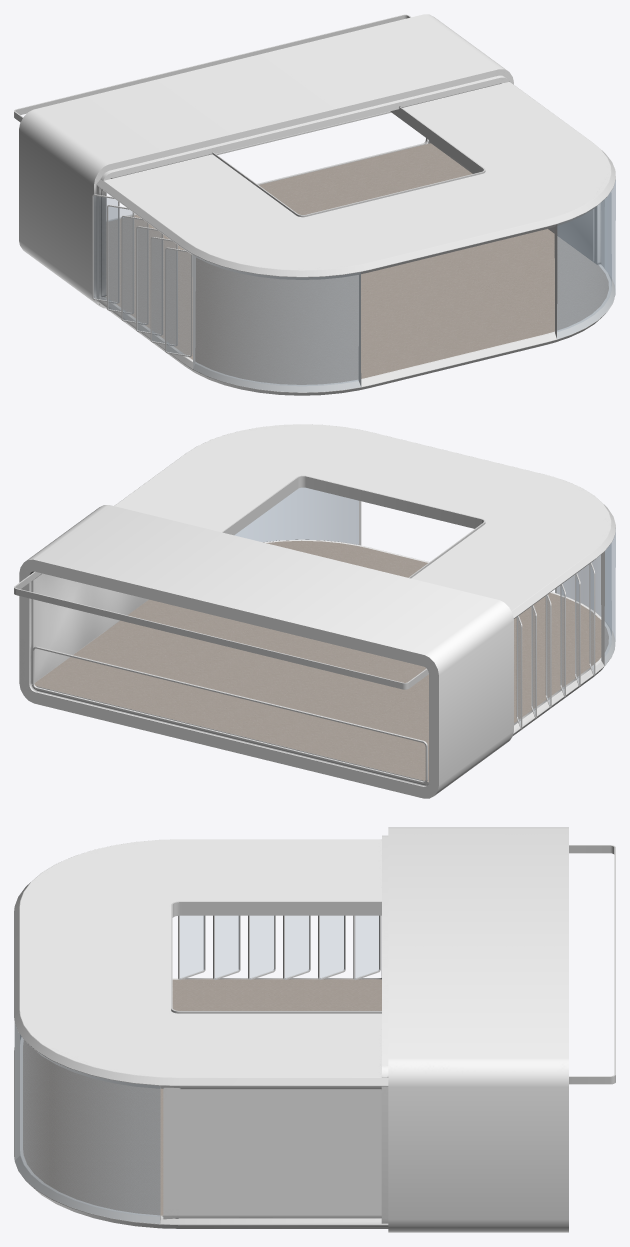
Rendered from v4-Conf-1ax.fbx.
3 views of the same model, one above another, from view 1: azimuth 30°, elevation 25°; view 2: azimuth 150°, elevation 25°; view 3: azimuth 270°, elevation 25° (orthographic). The views are drawn at different scales.
Visible parts, largest first — view 1: Cube.004, Cube.003, Cube; view 2: Cube.004, Cube, Cube.003; view 3: Cube.004, Cube.003, Cube.
Boxes of the visible parts, x1,y1,x2,y2 form: Cube.004: (19, 14, 615, 395); Cube.003: (92, 194, 192, 356); Cube: (14, 14, 485, 221); Cube.004: (19, 424, 615, 798); Cube: (14, 475, 485, 783); Cube.003: (516, 562, 595, 729); Cube.004: (14, 827, 568, 1232); Cube.003: (178, 915, 380, 979); Cube: (171, 845, 615, 1084).
Size of the model in its own units: 5288 by 1710 by 5387.
5 materials, 2 textured.
